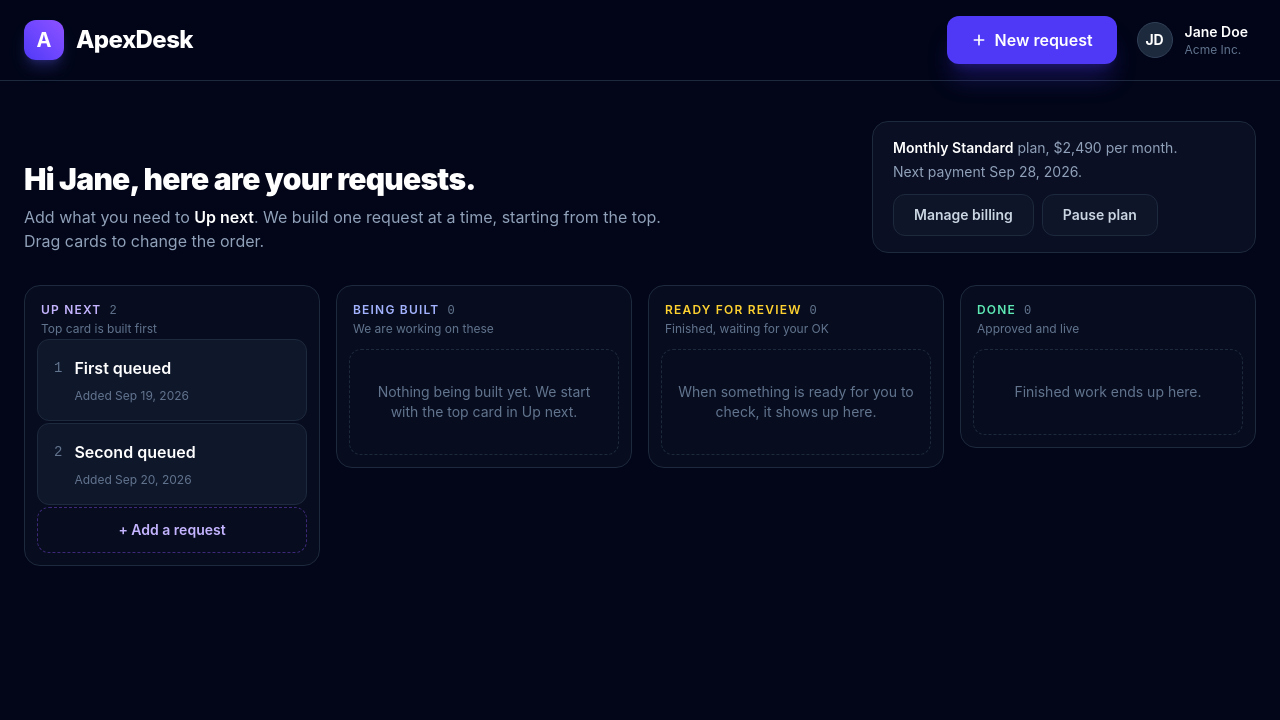
Test: DashboardPage request modal › marks a request urgent from the modal and moves it to the top
The width and height of the screenshot is (1280, 720).
Check: the heading "Up next 2" is shown, box [41,302,117,318]
Click the button "2 Second queued Added Sep 20, 2026". click: click(172, 464)
box: [38,424,306,504]
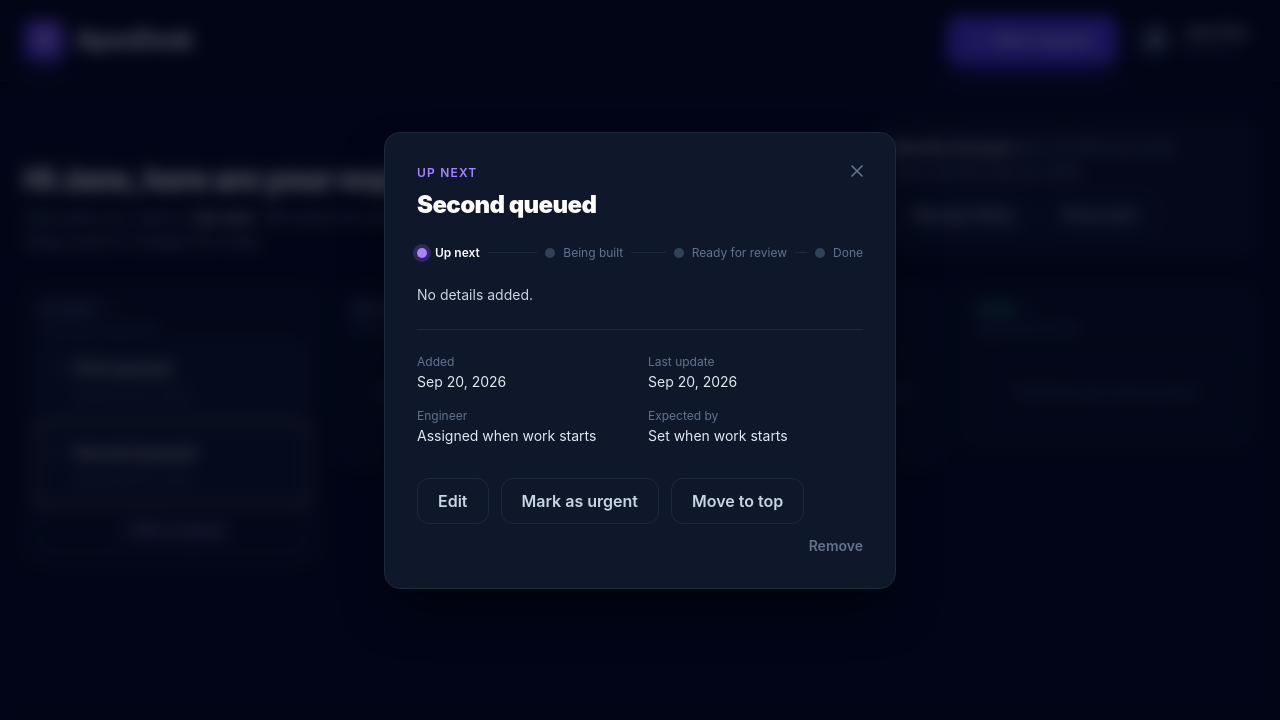
Click the button "Mark as urgent". click: click(580, 500)
box: [500,478,659,524]
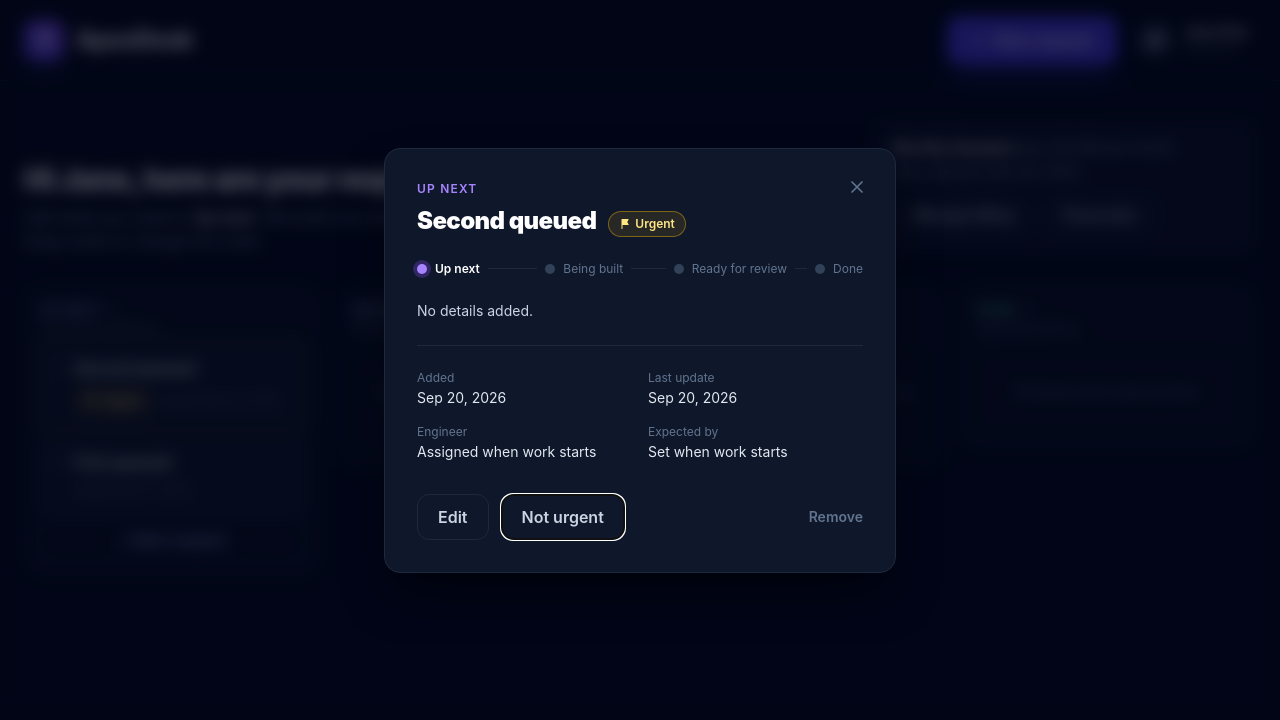
Check: the button "Not urgent" is shown, box [500,494,625,540]
